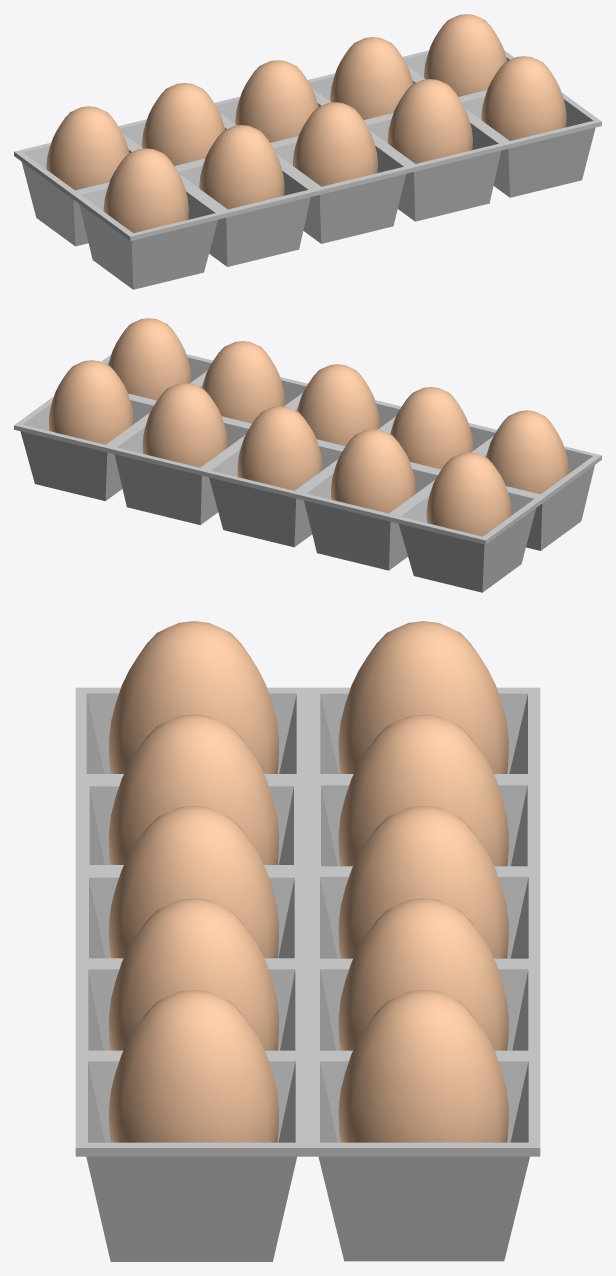
File: eggs-in-tray.fbx
3 views of the same model, one above another, from view 1: azimuth 30°, elevation 25°; view 2: azimuth 150°, elevation 25°; view 3: azimuth 270°, elevation 25° (orthographic). The views are drawn at different scales.
Parts seen in each view (by area): view 1: Plane, Sphere.001, Sphere.002, Sphere.004, Sphere.005, Sphere, Sphere.010, Sphere.011, Sphere.007, Sphere.006, Sphere.008; view 2: Plane, Sphere.007, Sphere.006, Sphere.011, Sphere.008, Sphere.010, Sphere.004, Sphere.005, Sphere.001, Sphere.002, Sphere; view 3: Plane, Sphere.008, Sphere.002, Sphere.004, Sphere.010, Sphere.006, Sphere, Sphere.007, Sphere.001, Sphere.011, Sphere.005.
Part boxes in pixels (left/top/right/bottom): Plane: left=14, top=50, right=601, bottom=289; Sphere.001: left=387, top=79, right=472, bottom=163; Sphere.002: left=481, top=56, right=566, bottom=140; Sphere.004: left=103, top=148, right=188, bottom=232; Sphere.005: left=199, top=125, right=284, bottom=209; Sphere: left=293, top=102, right=377, bottom=186; Sphere.010: left=46, top=106, right=129, bottom=190; Sphere.011: left=142, top=83, right=224, bottom=165; Sphere.007: left=330, top=37, right=413, bottom=119; Sphere.006: left=235, top=60, right=318, bottom=142; Sphere.008: left=424, top=14, right=506, bottom=96; Plane: left=14, top=354, right=601, bottom=592; Sphere.007: left=142, top=383, right=227, bottom=467; Sphere.006: left=237, top=406, right=322, bottom=490; Sphere.011: left=331, top=429, right=415, bottom=513; Sphere.008: left=49, top=360, right=133, bottom=444; Sphere.010: left=426, top=452, right=511, bottom=536; Sphere.004: left=486, top=410, right=569, bottom=494; Sphere.005: left=390, top=387, right=473, bottom=469; Sphere.001: left=202, top=341, right=285, bottom=423; Sphere.002: left=108, top=318, right=191, bottom=400; Sphere: left=297, top=364, right=379, bottom=446; Plane: left=75, top=687, right=540, bottom=1261; Sphere.008: left=338, top=990, right=508, bottom=1142; Sphere.002: left=109, top=990, right=279, bottom=1142; Sphere.004: left=109, top=621, right=279, bottom=773; Sphere.010: left=338, top=621, right=508, bottom=773; Sphere.006: left=338, top=805, right=508, bottom=958; Sphere: left=109, top=805, right=279, bottom=958; Sphere.007: left=338, top=898, right=508, bottom=1050; Sphere.001: left=109, top=898, right=279, bottom=1050; Sphere.011: left=338, top=714, right=508, bottom=866; Sphere.005: left=109, top=714, right=279, bottom=864.
Size of the model in its own units: 1379 by 322 by 588.
